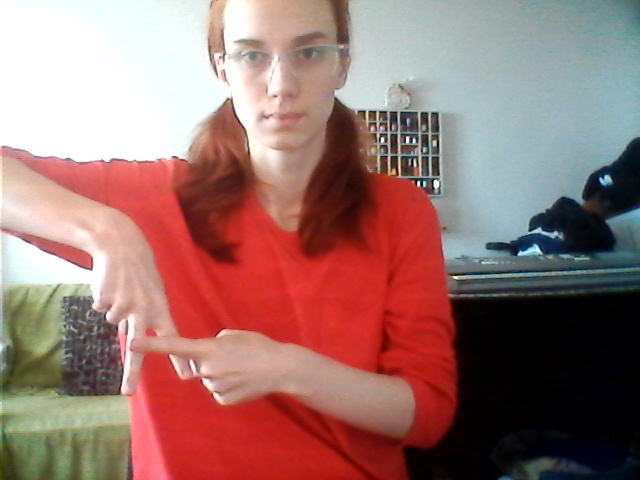a: (78, 283, 253, 410)
